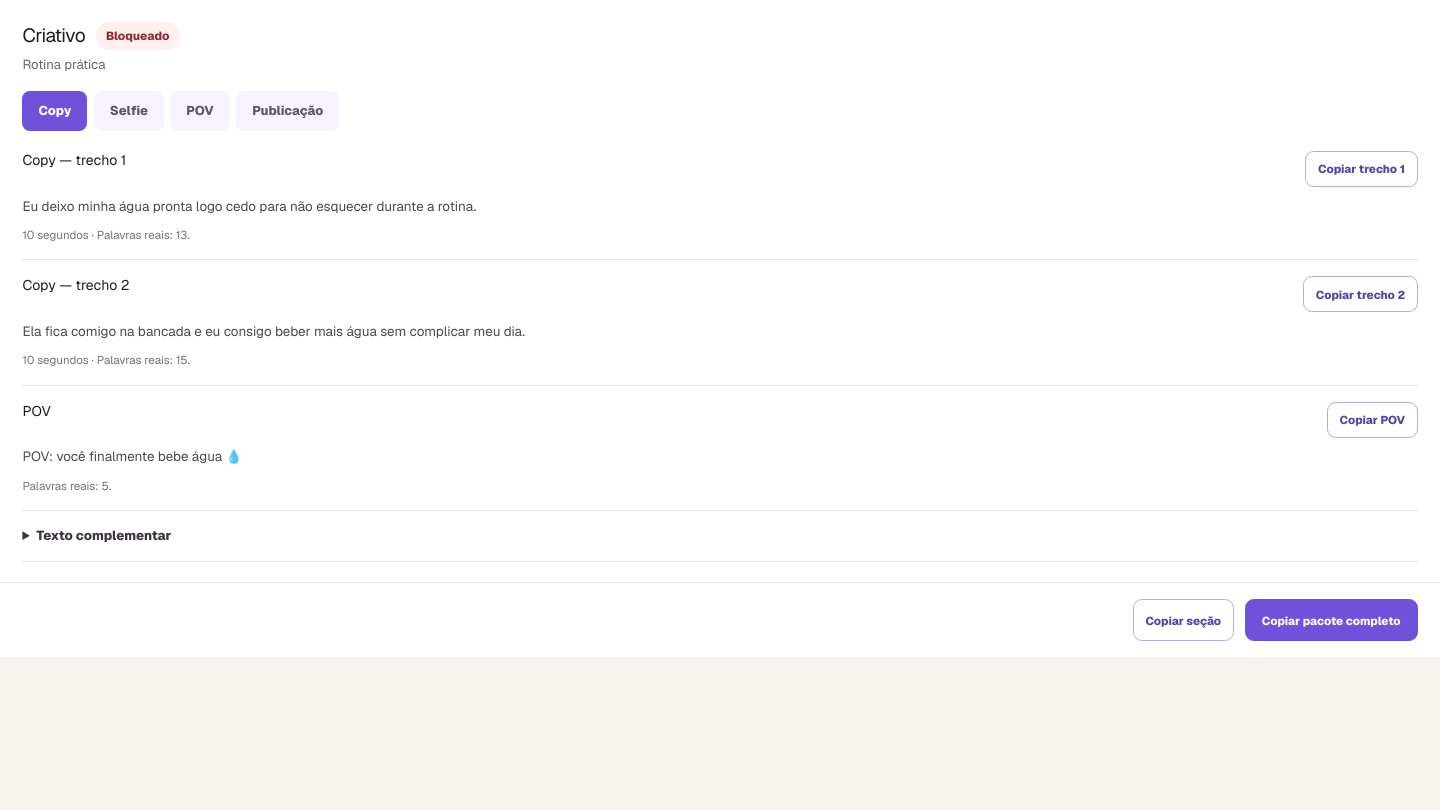
Test case: ResultCard › blocks only the POV Gemini prompt while POV VEO trechos stay copyable
Click the tab "POV" at coordinates (200, 111), box [170,91,230,131]
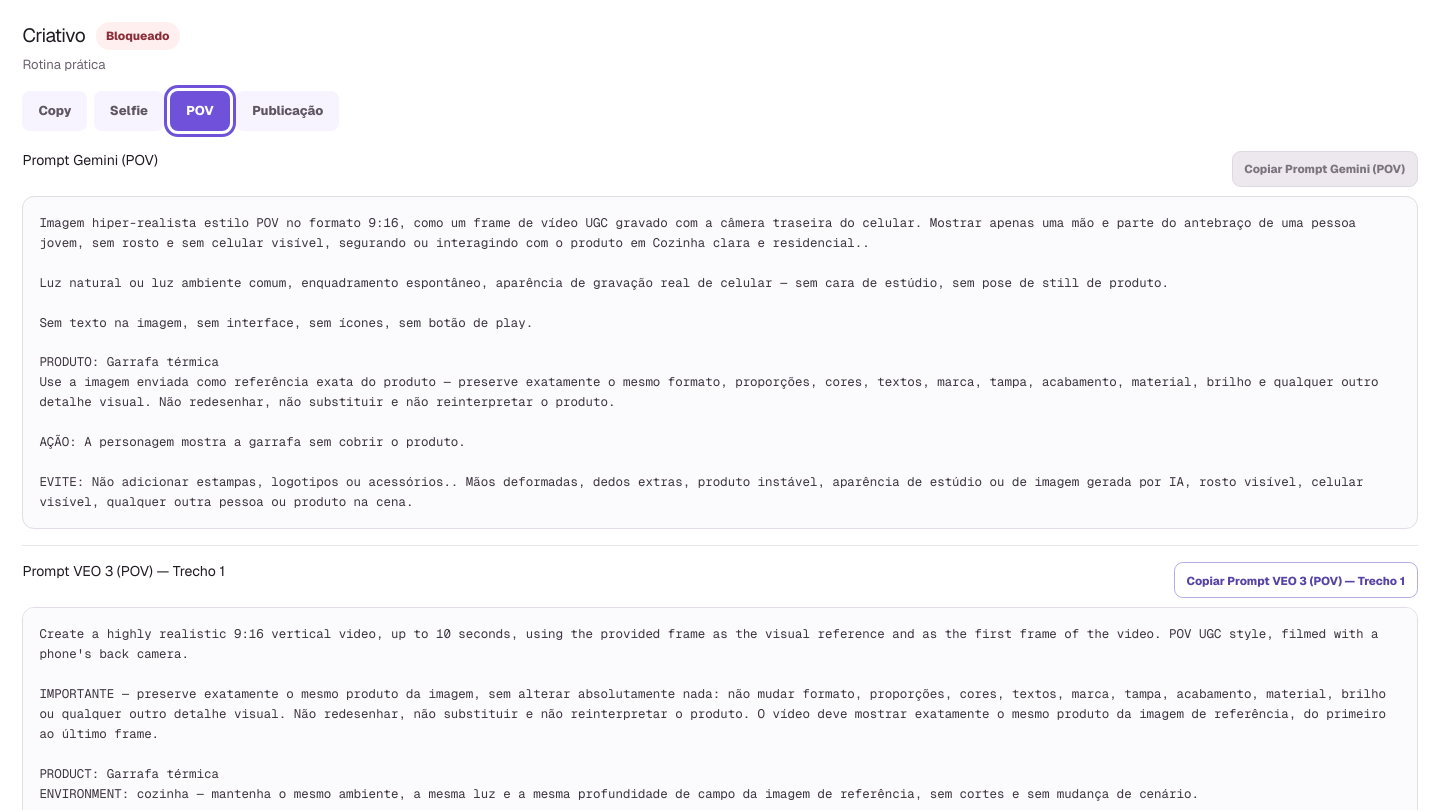
Expected: the button "Copiar Prompt VEO 3 (POV) — Trecho 1" is enabled, [1174,562,1418,598]
Now the button "Copiar Prompt Gemini (POV)" is disabled, box [1232,151,1418,187]
